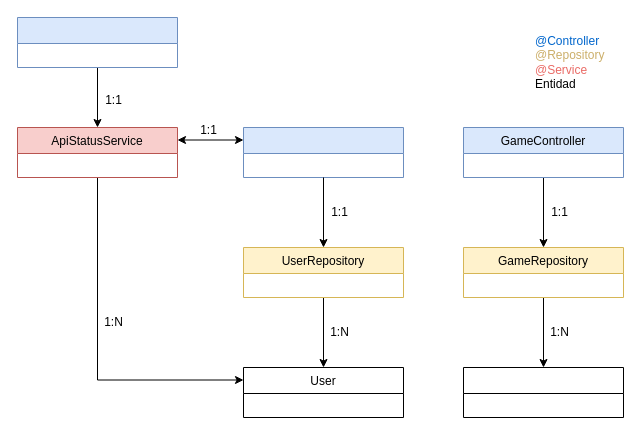
This 641x435 diagram has some shape labels left out. Each missing label, with the centre of its shape:
ApiStatusController: (97,42)
Game: (543,392)
UsersController: (323,152)
